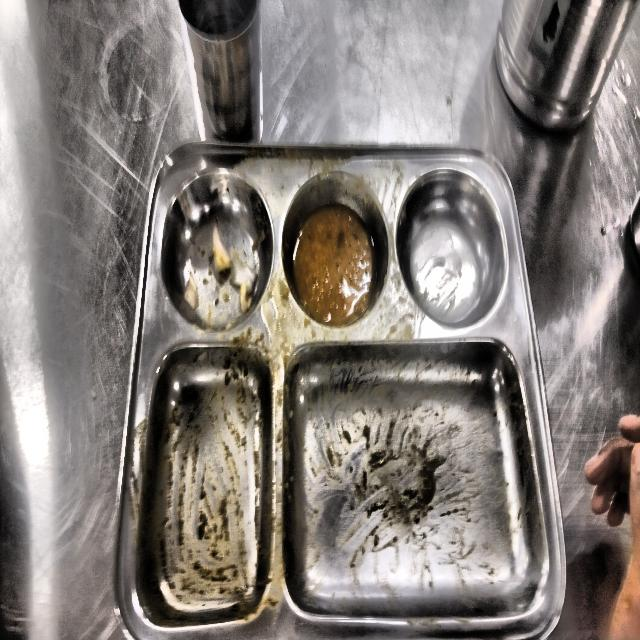Chilli-paneer: (279, 169, 389, 329)
